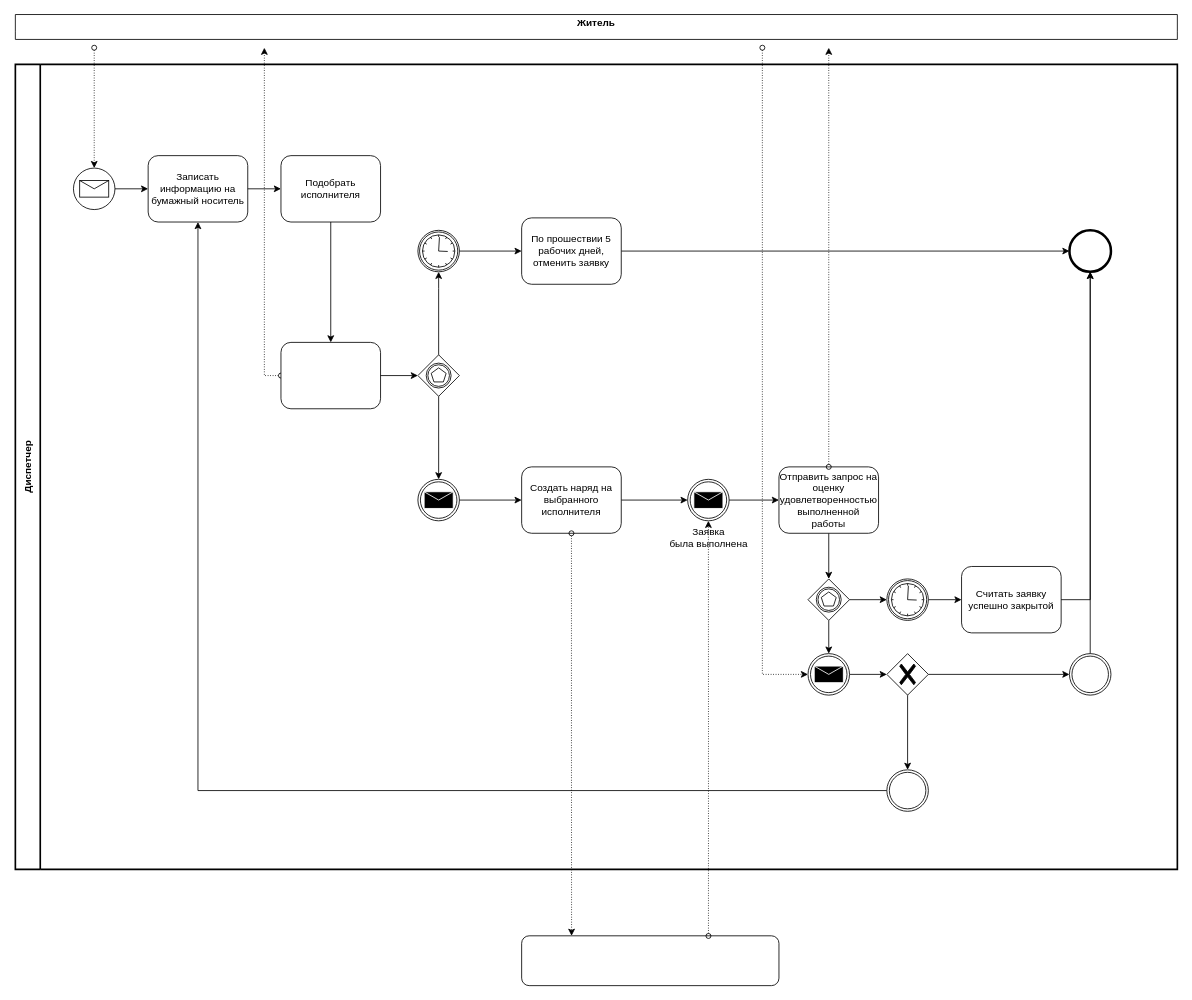
Some shapes in this 1192 by 1000 pixel diagram are drawn without their labels. Here are the shapes that lost their labels. From the top down, the centre of each, then its label:
(x=94, y=188): Поступила заявка от жителя
(x=330, y=375): Отправить запрос пользователю на уточнение времени выполнения заявки
(x=1090, y=674): Житель удовлетворен работой
(x=907, y=790): Житель не удовлетворен работой
(x=650, y=960): Процесс выполнения заявки
